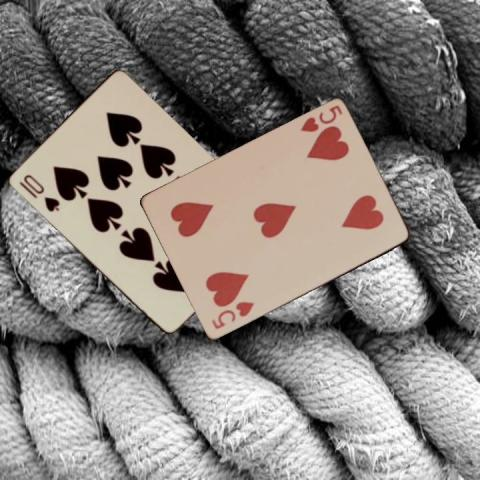10s: (20, 172, 61, 214)
5h: (209, 299, 256, 331), (297, 102, 344, 134)
